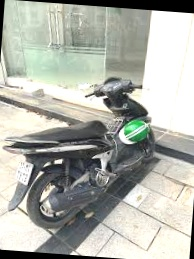Bien-so: (14, 169, 32, 195)
